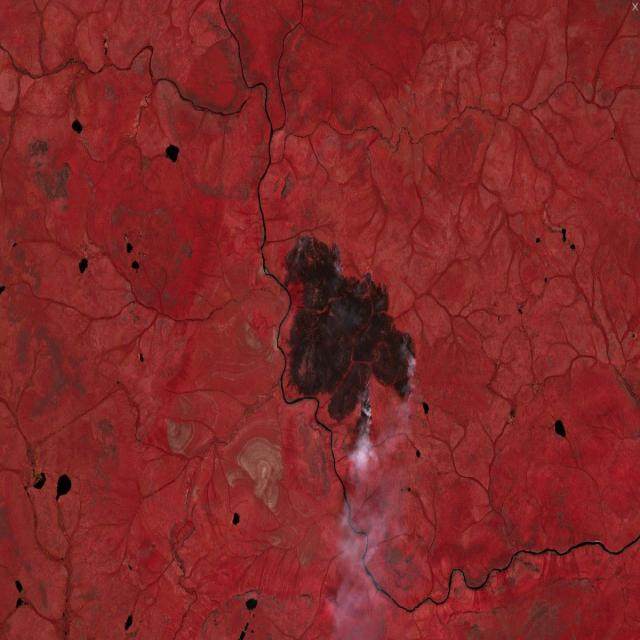fire: (275, 227, 420, 447)
